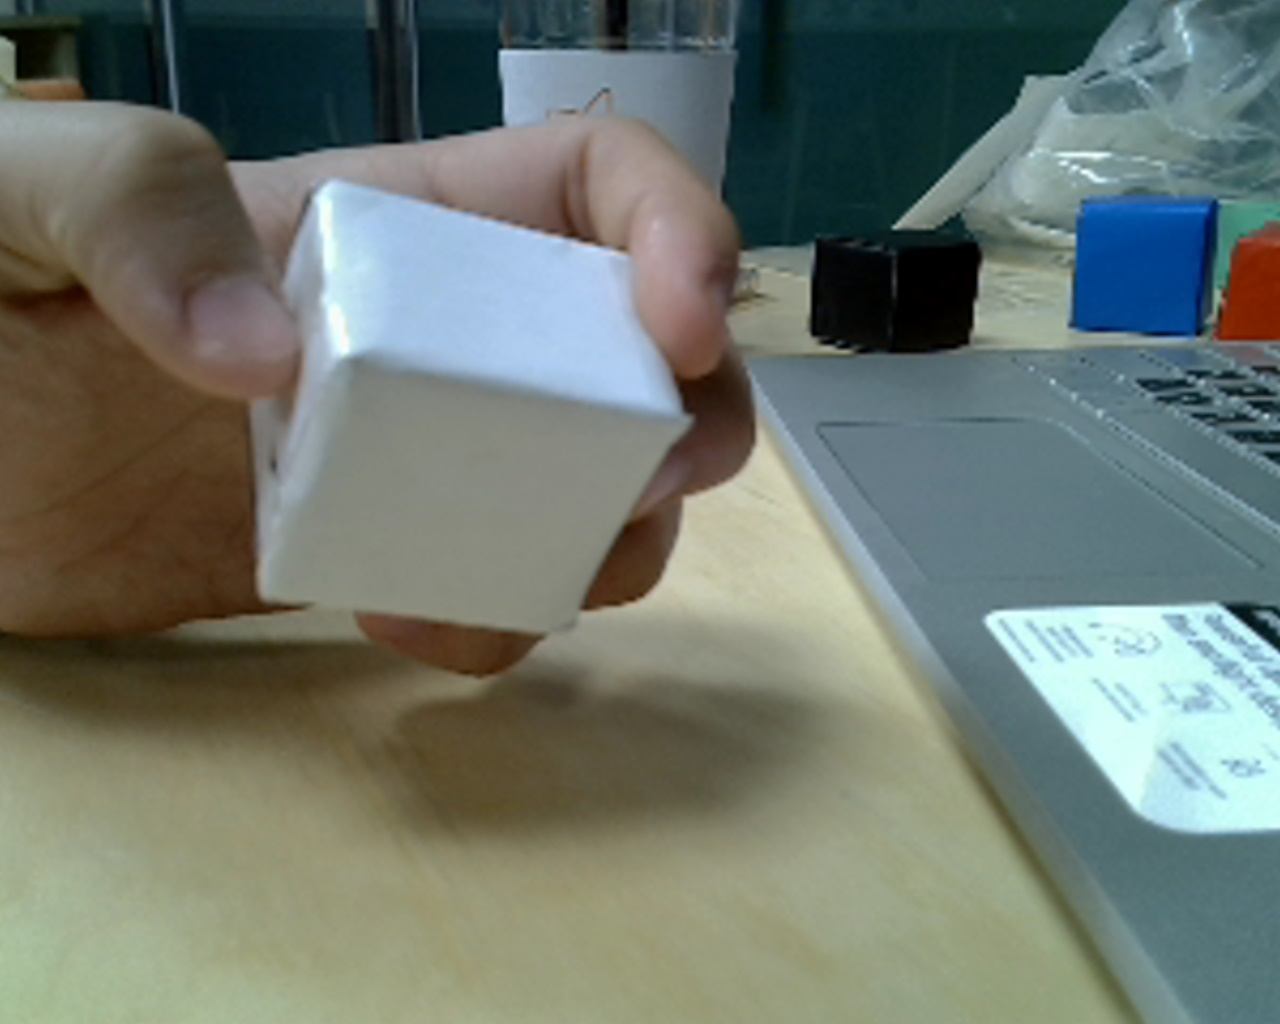whitebox: (211, 147, 707, 667)
